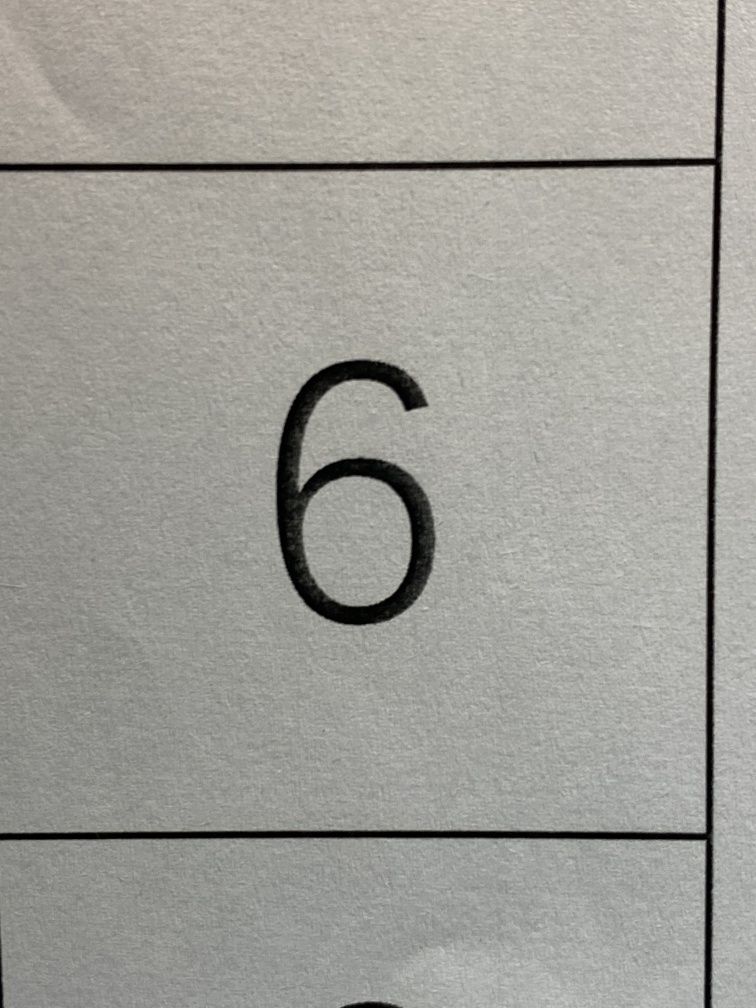six: (202, 301, 519, 694)
